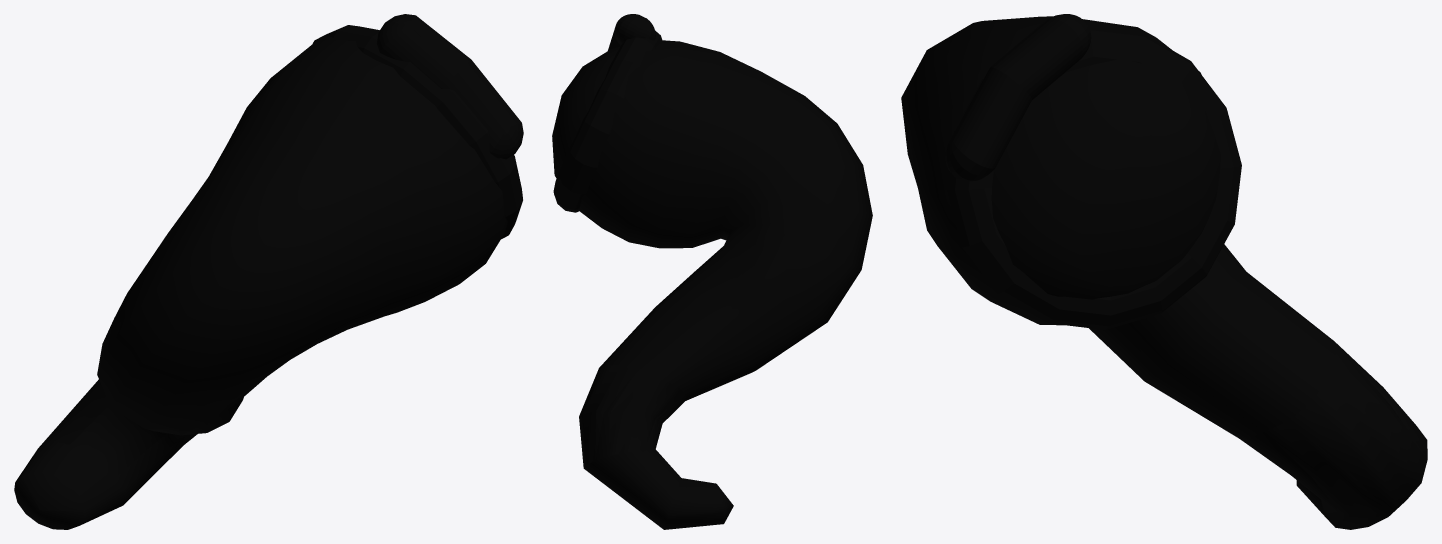
File: Body.fbx
3 renders of one model, left to right at view 1: azimuth 30°, elevation 25°; view 2: azimuth 150°, elevation 25°; view 3: azimuth 270°, elevation 25°, orthographic. The views are drawn at different scales.
Parts seen in each view (by area): view 1: node_id7 (×3); view 2: node_id7 (×3); view 3: node_id7 (×3).
Boxes of the visible parts, x1,y1,x2,y2 form: node_id7 (×3): (14,14,523,529); node_id7 (×3): (552,14,872,529); node_id7 (×3): (901,14,1427,529).
Bounding box in the file's own units: 0.3627 × 0.4896 × 0.3851.
Materials: 3 (3 with a texture image).
